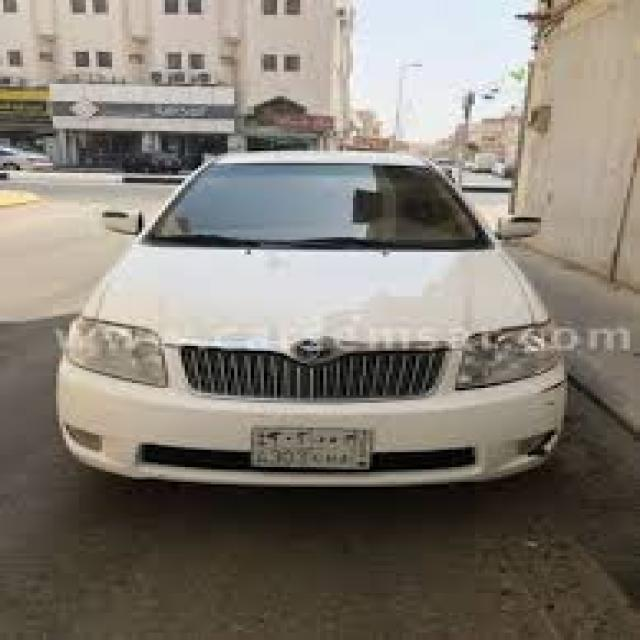license_plate: (248, 423, 376, 472)
